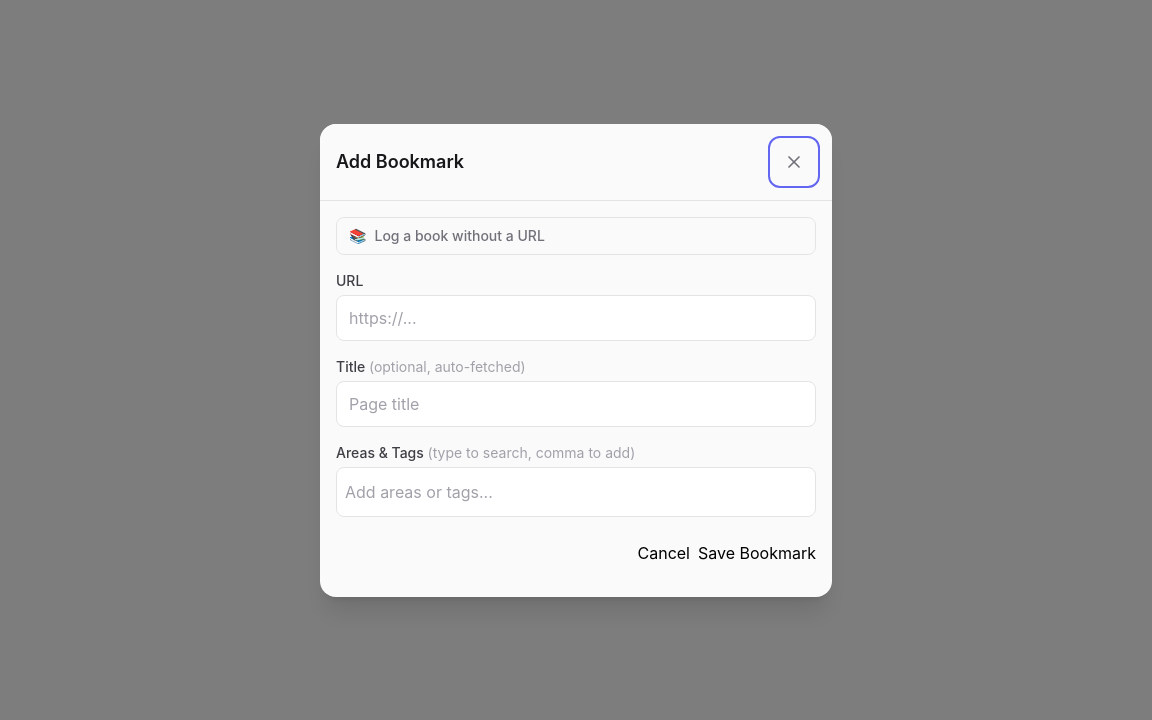
Test: AddBookmarkModal — book mode › enters book mode when toggle is clicked
The image size is (1152, 720).
What coordinates should you click on to do the following:
click the button "📚 Log a book without a URL"
I would click on:
 (460, 235)
Its box is [336,216,816,254].
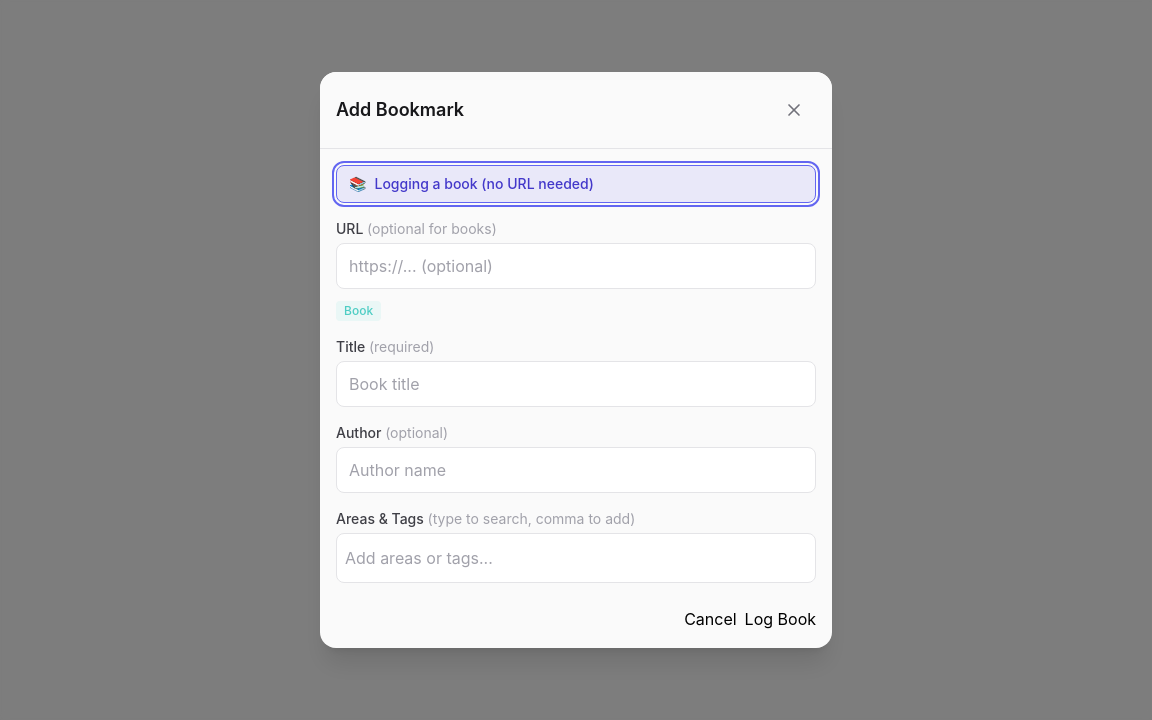
Check: the button "📚 Logging a book (no URL needed)" is shown, box [336,165,816,203]
Check: the field with placeholder "Book title" is shown, box [336,361,816,407]
Check: the field with placeholder "Author name" is shown, box [336,447,816,493]
